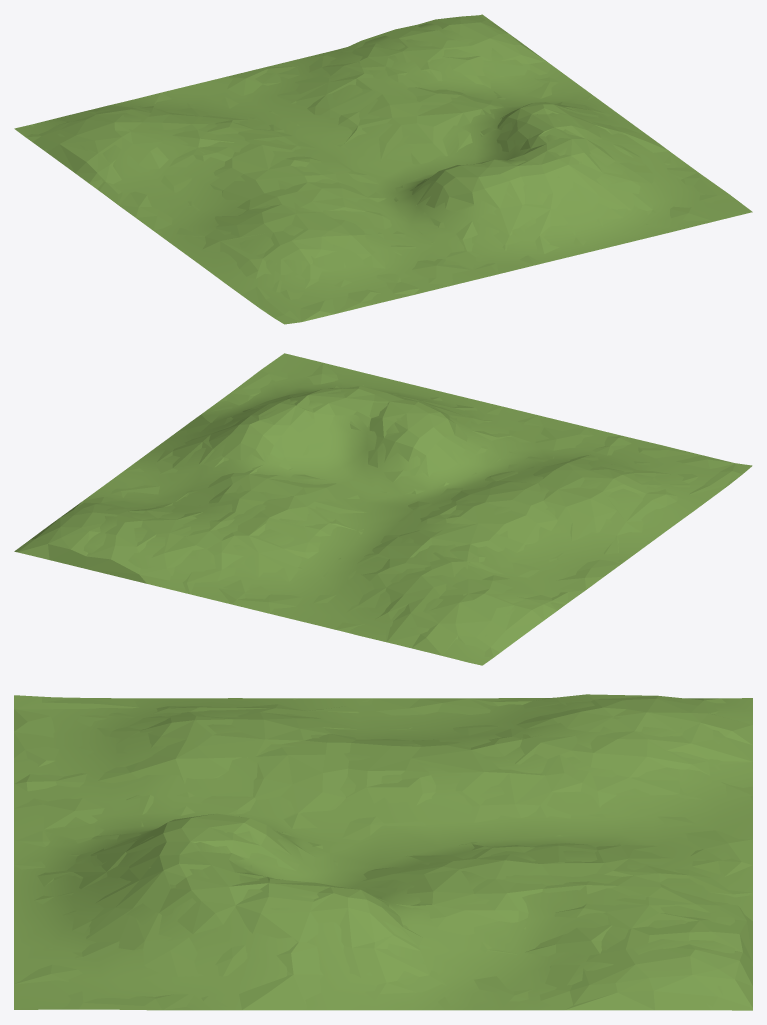
The model's file is Terrain.fbx.
3 views of the same model, one above another, from view 1: azimuth 30°, elevation 25°; view 2: azimuth 150°, elevation 25°; view 3: azimuth 270°, elevation 25° (orthographic). The views are drawn at different scales.
Parts seen in each view (by area): view 1: Terrain_2, Retopo_Terrain_2; view 2: Terrain_2, Retopo_Terrain_2; view 3: Terrain_2, Retopo_Terrain_2.
Part boxes in pixels (box(x1,y1,x2,y2)): Terrain_2: box(25, 14, 735, 323); Retopo_Terrain_2: box(14, 19, 752, 324); Terrain_2: box(14, 359, 744, 663); Retopo_Terrain_2: box(29, 353, 752, 665); Terrain_2: box(14, 694, 752, 1010); Retopo_Terrain_2: box(14, 695, 752, 1010).
Size of the model in its own units: 2001 by 176 by 2000.
